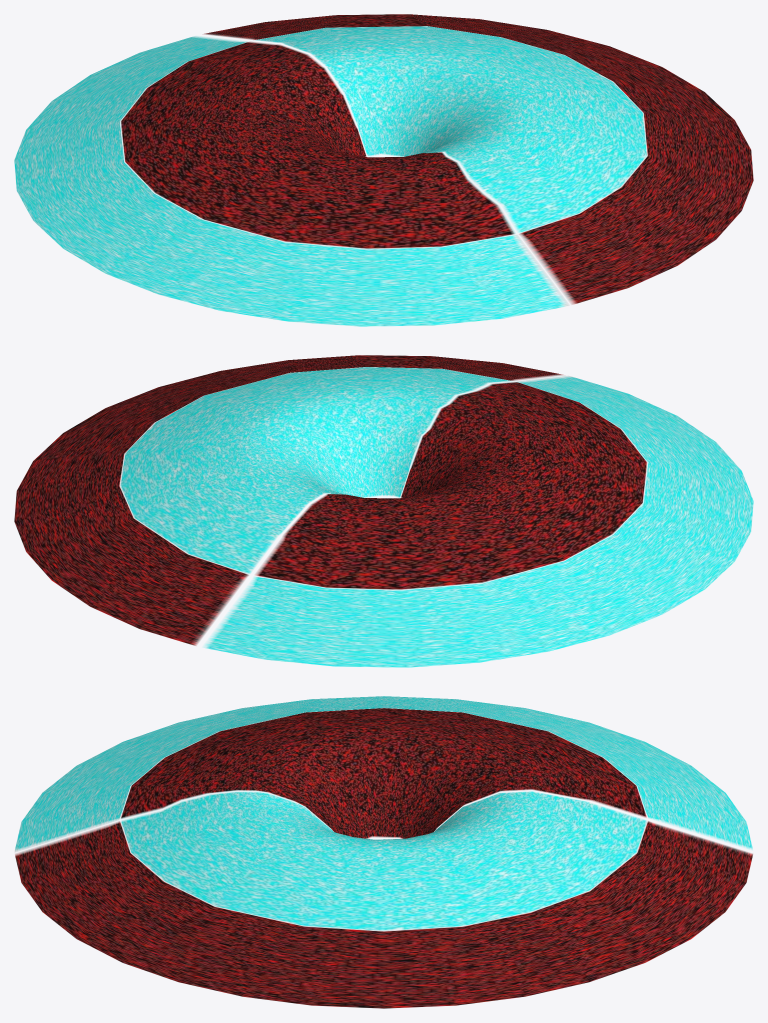
3 views of the same model, one above another, from view 1: azimuth 30°, elevation 25°; view 2: azimuth 150°, elevation 25°; view 3: azimuth 270°, elevation 25° (orthographic).
Visible parts, largest first — view 1: SM_VFX_Dune_LowPoly_LOD0; view 2: SM_VFX_Dune_LowPoly_LOD0; view 3: SM_VFX_Dune_LowPoly_LOD0.
Part boxes in pixels (<box>): SM_VFX_Dune_LowPoly_LOD0: <box>14,14,753,326</box>; SM_VFX_Dune_LowPoly_LOD0: <box>14,355,753,667</box>; SM_VFX_Dune_LowPoly_LOD0: <box>15,696,752,1008</box>.
Size of the model in its own units: 4.7 by 0.4333 by 4.7.
1 material, 1 textured.
